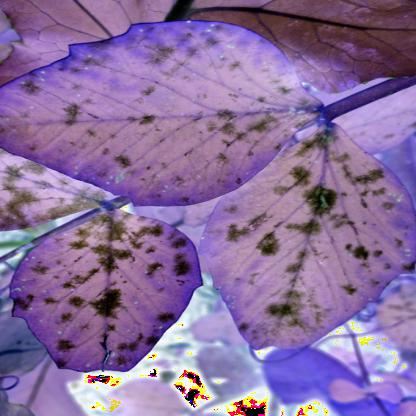squash powdery mildew leaf: (1, 18, 338, 210), (196, 120, 415, 359), (1, 198, 207, 379)
